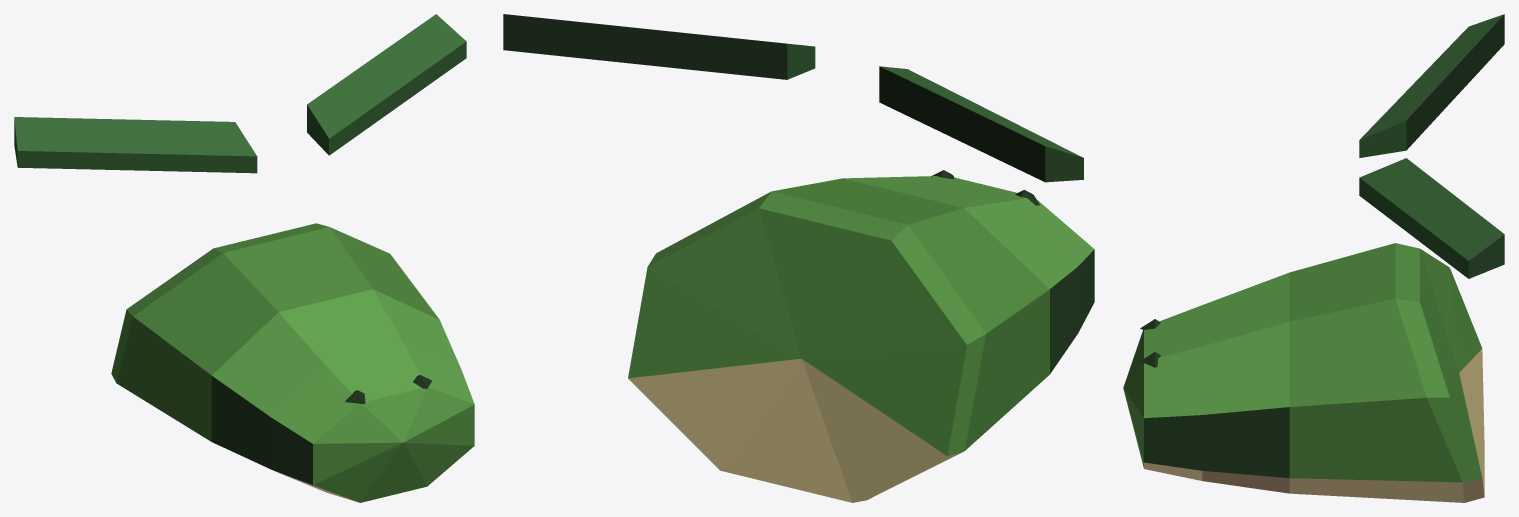
File: snout_dragon_long.glb
3 views of the same model, side by side, from view 1: azimuth 30°, elevation 25°; view 2: azimuth 150°, elevation 25°; view 3: azimuth 270°, elevation 25° (orthographic). The views are drawn at different scales.
Parts seen in each view (by area): view 1: Snout; view 2: Snout; view 3: Snout.
Boxes of the visible parts, <box> form: Snout: <box>14,14,474,502</box>; Snout: <box>503,14,1094,502</box>; Snout: <box>1123,14,1504,502</box>.
Bounding box in the file's own units: 0.2 × 0.1397 × 0.1376.
1 material, 1 textured.
